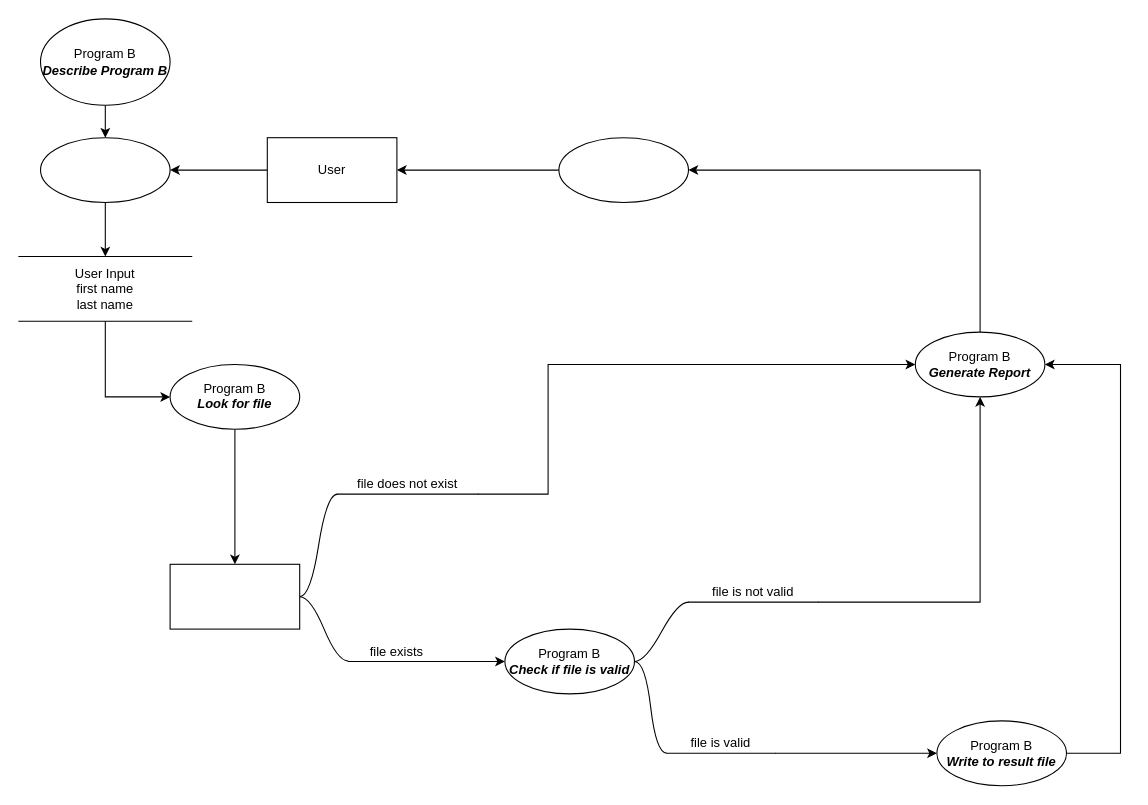
The diagram is 1148 pixels wide and 805 high, and some of its shapes have lost their labels. The centre of each missing label's shape, as x and y in pixels:
Local file system: (x=234, y=596)
Program B Display Report and Exit: (x=623, y=169)
Program B Parse user input: (x=104, y=169)
